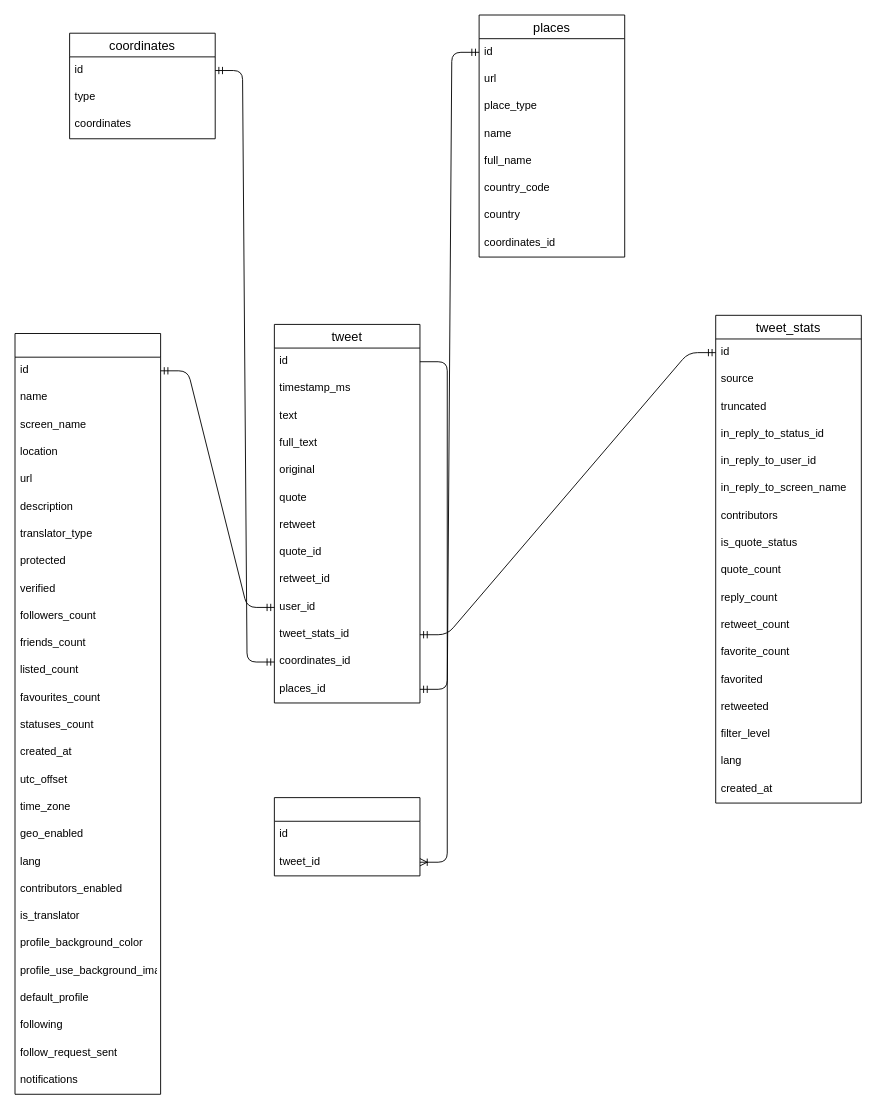
The diagram is 876 pixels wide and 1109 high, and some of its shapes have lost their labels. Here are the shapes that lost their labels. From the top down, the box of each, then its label:
(14, 333, 161, 1094): user
(273, 797, 420, 876): user_mentions
